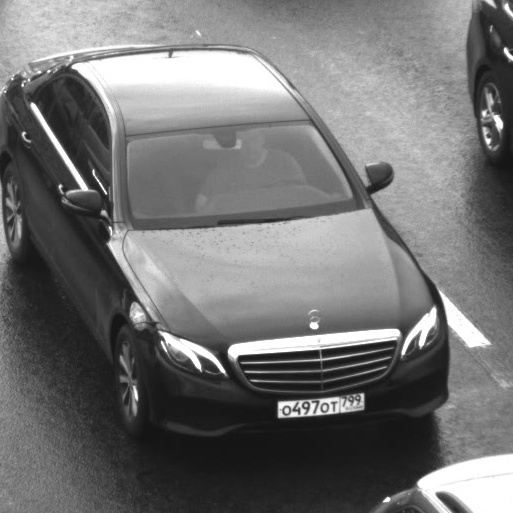plate: (265, 381, 374, 426)
